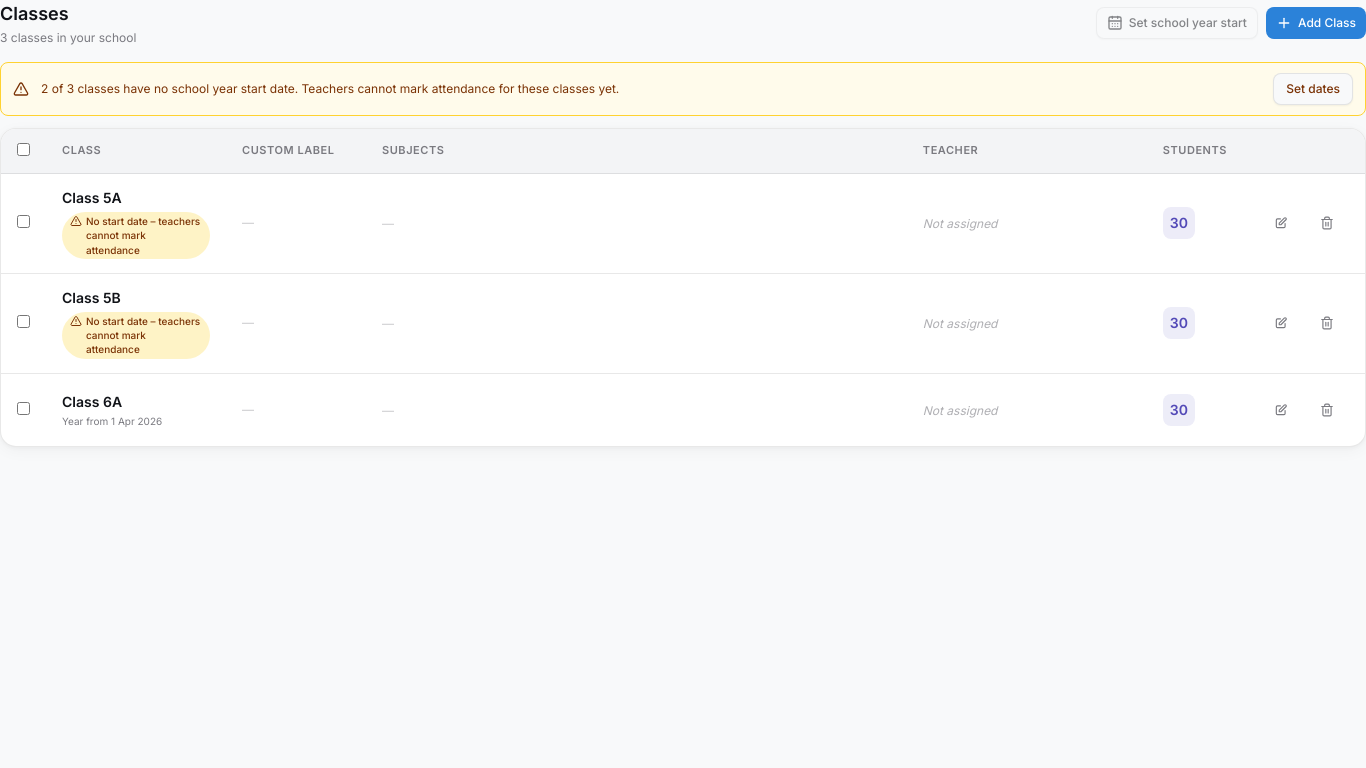
Test: AdminClassesPanel: classes without a school year start date › C3: singular and plural wording › the bulk dialog says '1 class' / 'this class' for one selected class
Click the checkbox named "Select Class 5A" at (24, 222), box [17,215,30,228]
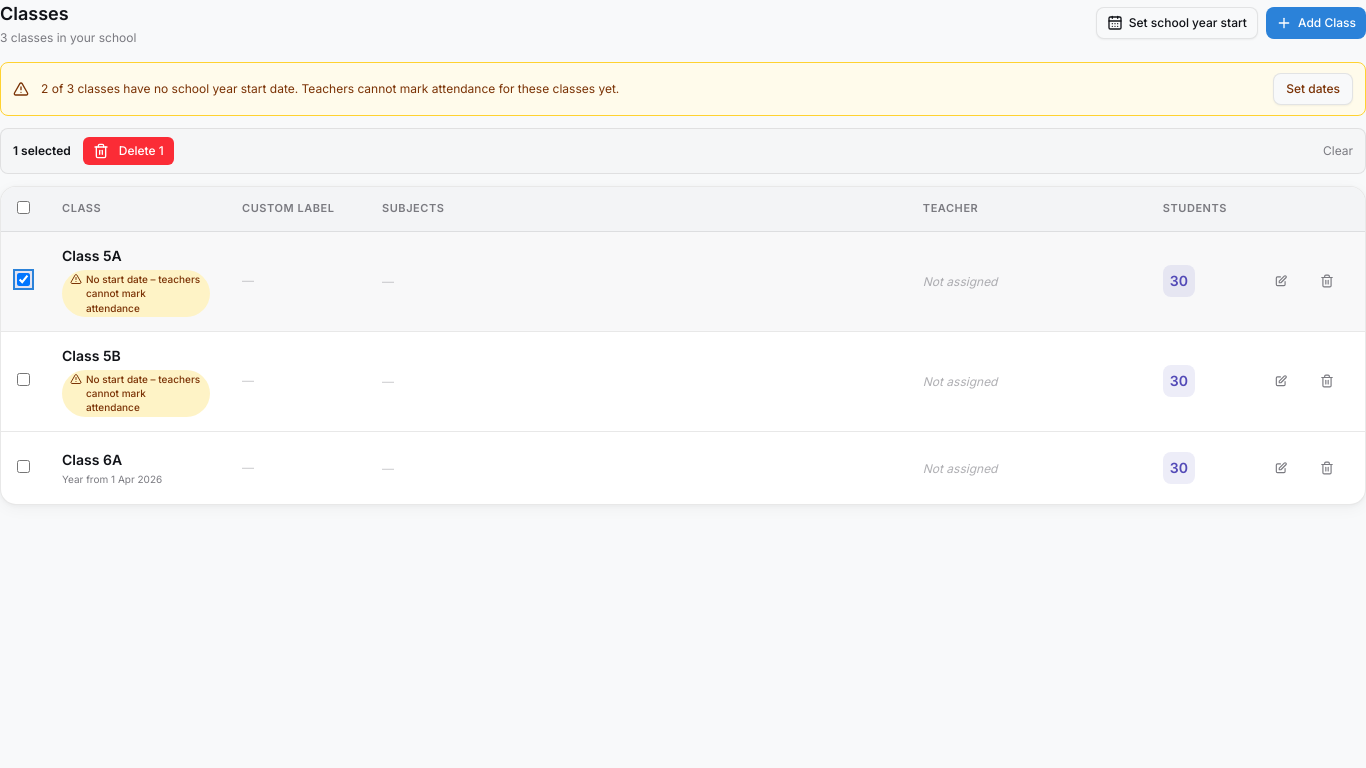
Click the button "Set school year start" at (1177, 23), box [1096,7,1258,39]
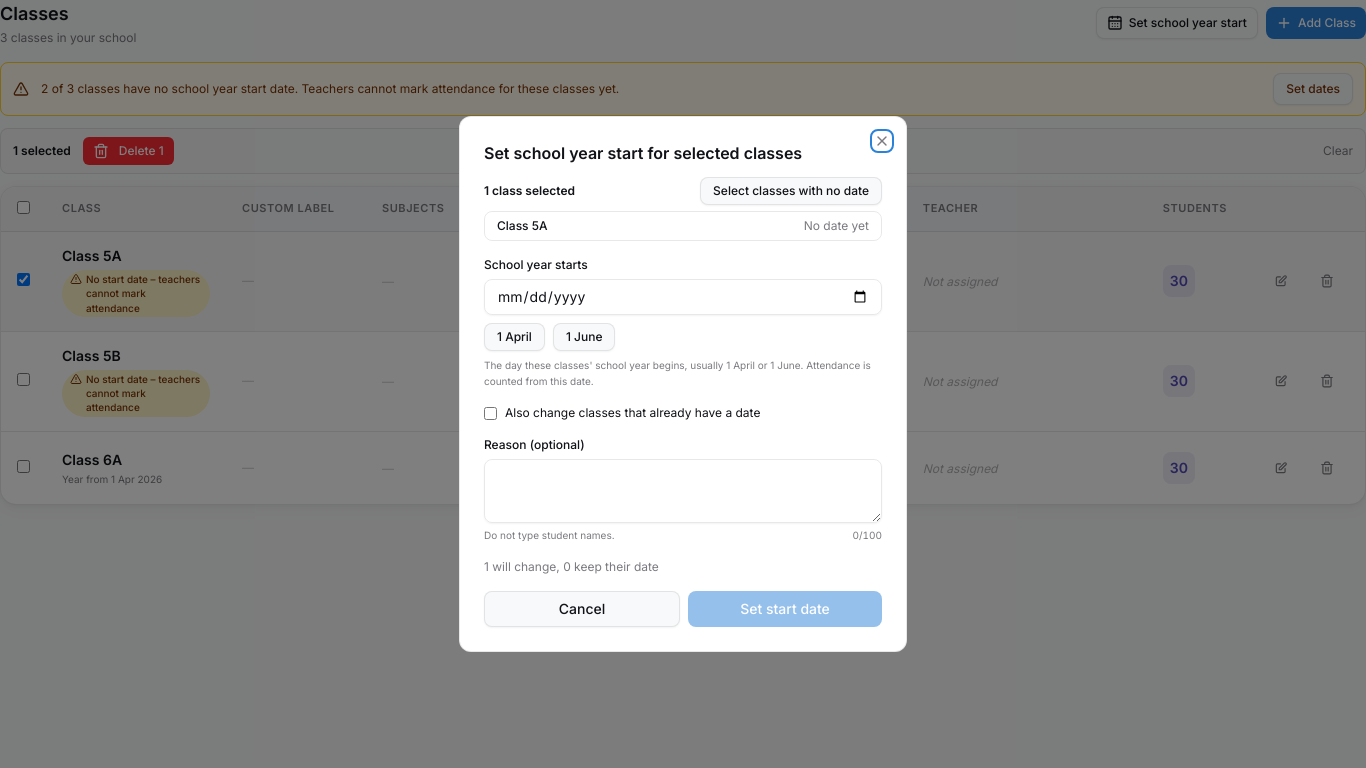
Type "2026-06-01" into the date field labelled "School year starts" at (683, 297), box [484,279,882,315]
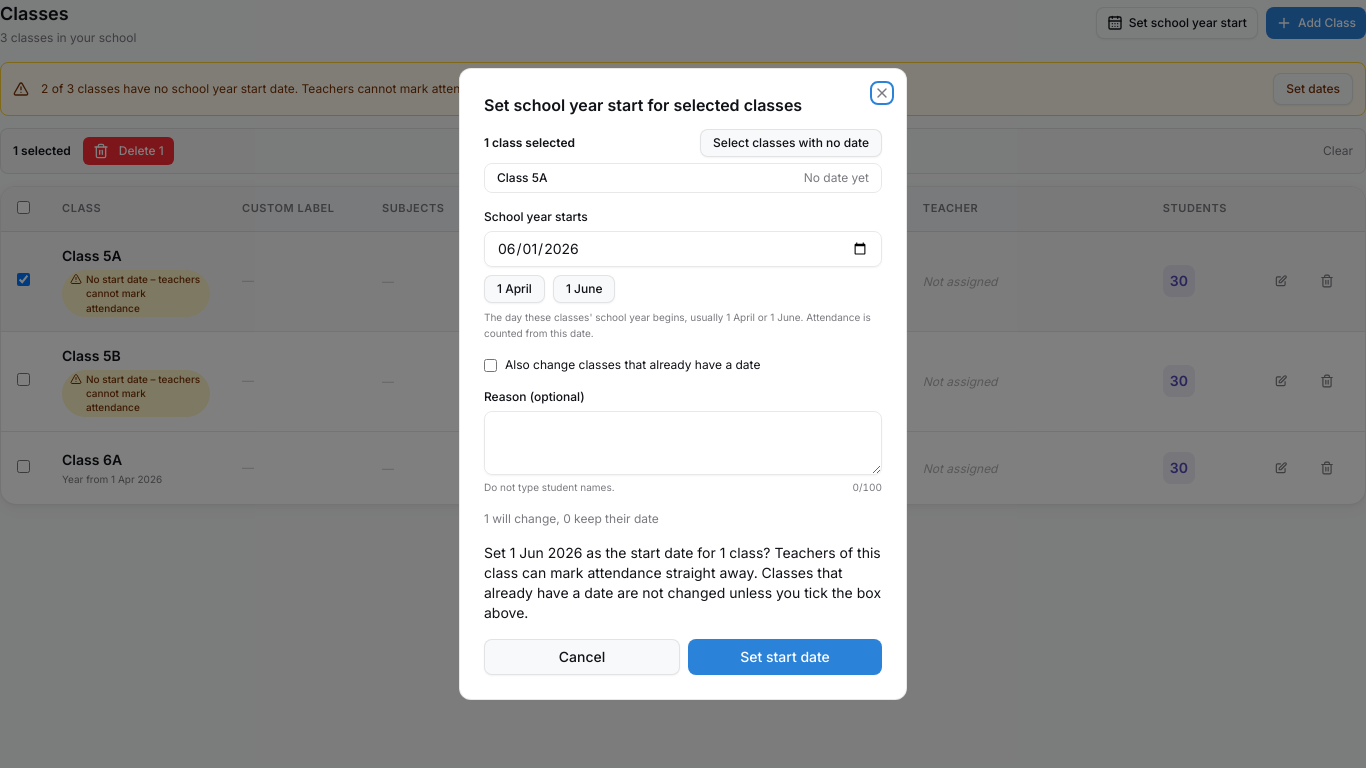
Check: the text "1 class selected" is shown, box [484,135,575,151]
Check: the text "1 will change, 0 keep their date" is shown, box [484,511,659,526]
Check: the text "Set 1 Jun 2026 as the start date for 1 class? Teachers of this class can mark attendance straight away. Classes that alr" is shown, box [484,544,881,621]
